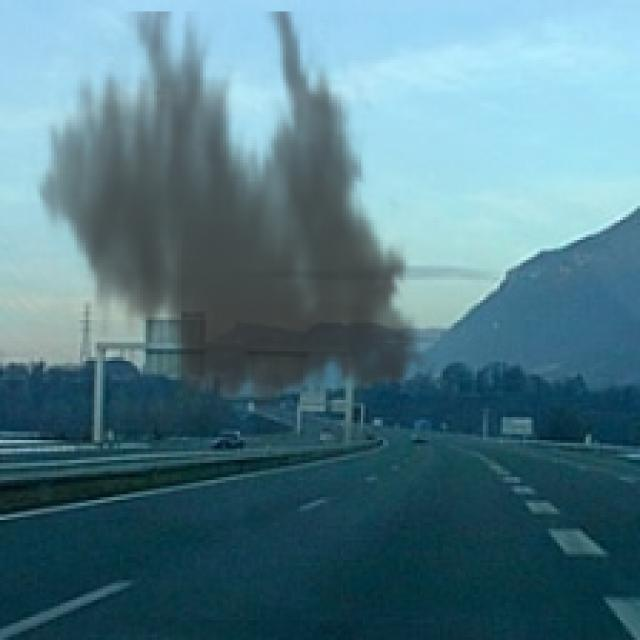smoke: (26, 11, 437, 428)
